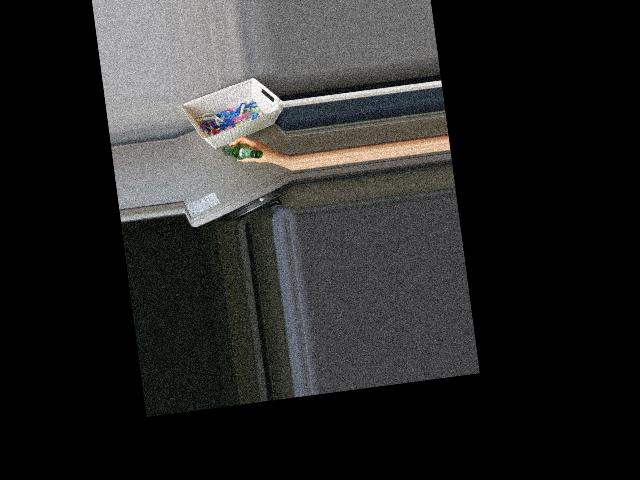beer: (221, 139, 264, 163)
